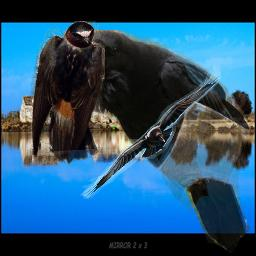Crow: (67, 30, 251, 254), (80, 65, 224, 199)
Swallow: (30, 21, 105, 165)
